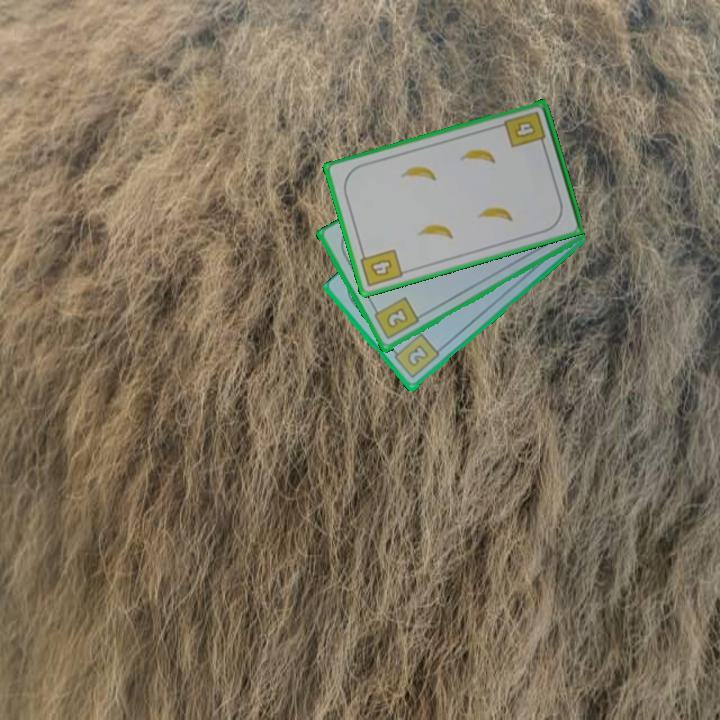2b: (388, 330, 442, 382), (369, 294, 421, 342)
4b: (357, 246, 406, 290), (501, 108, 549, 151)
